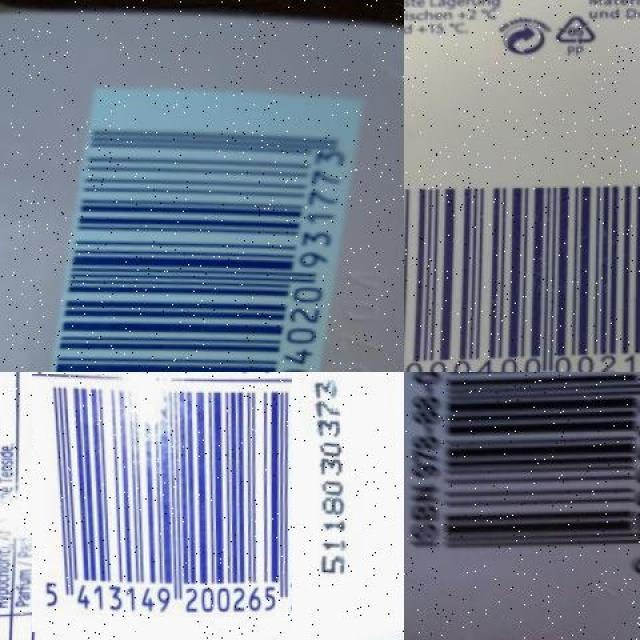Barcode: (33, 83, 364, 372), (32, 373, 292, 632), (404, 372, 640, 597), (404, 163, 640, 372)
